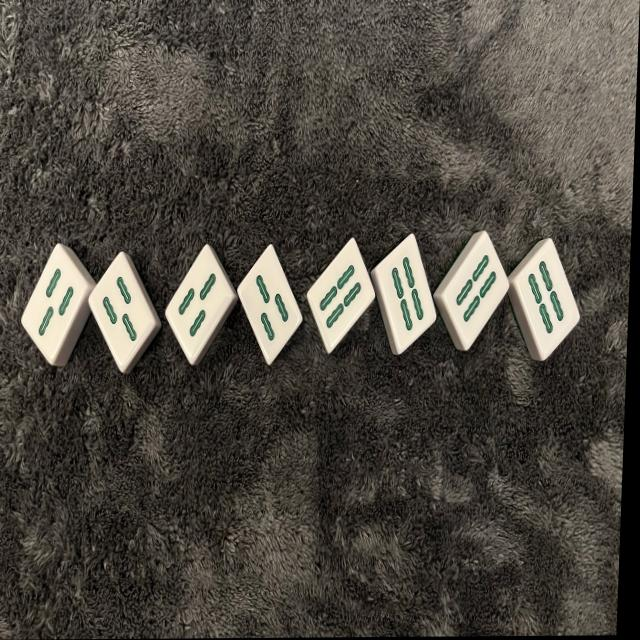s3: (84, 252, 160, 371), (18, 244, 92, 365), (162, 245, 237, 364), (239, 246, 304, 363)
s4: (508, 239, 582, 360), (438, 231, 512, 349), (370, 233, 441, 354), (303, 237, 377, 352)
